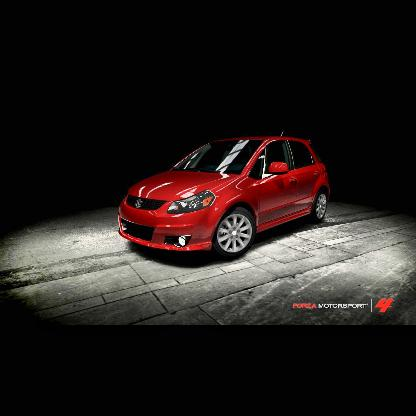Suzuki SX4 Hatchback 2012: (118, 129, 337, 263)
